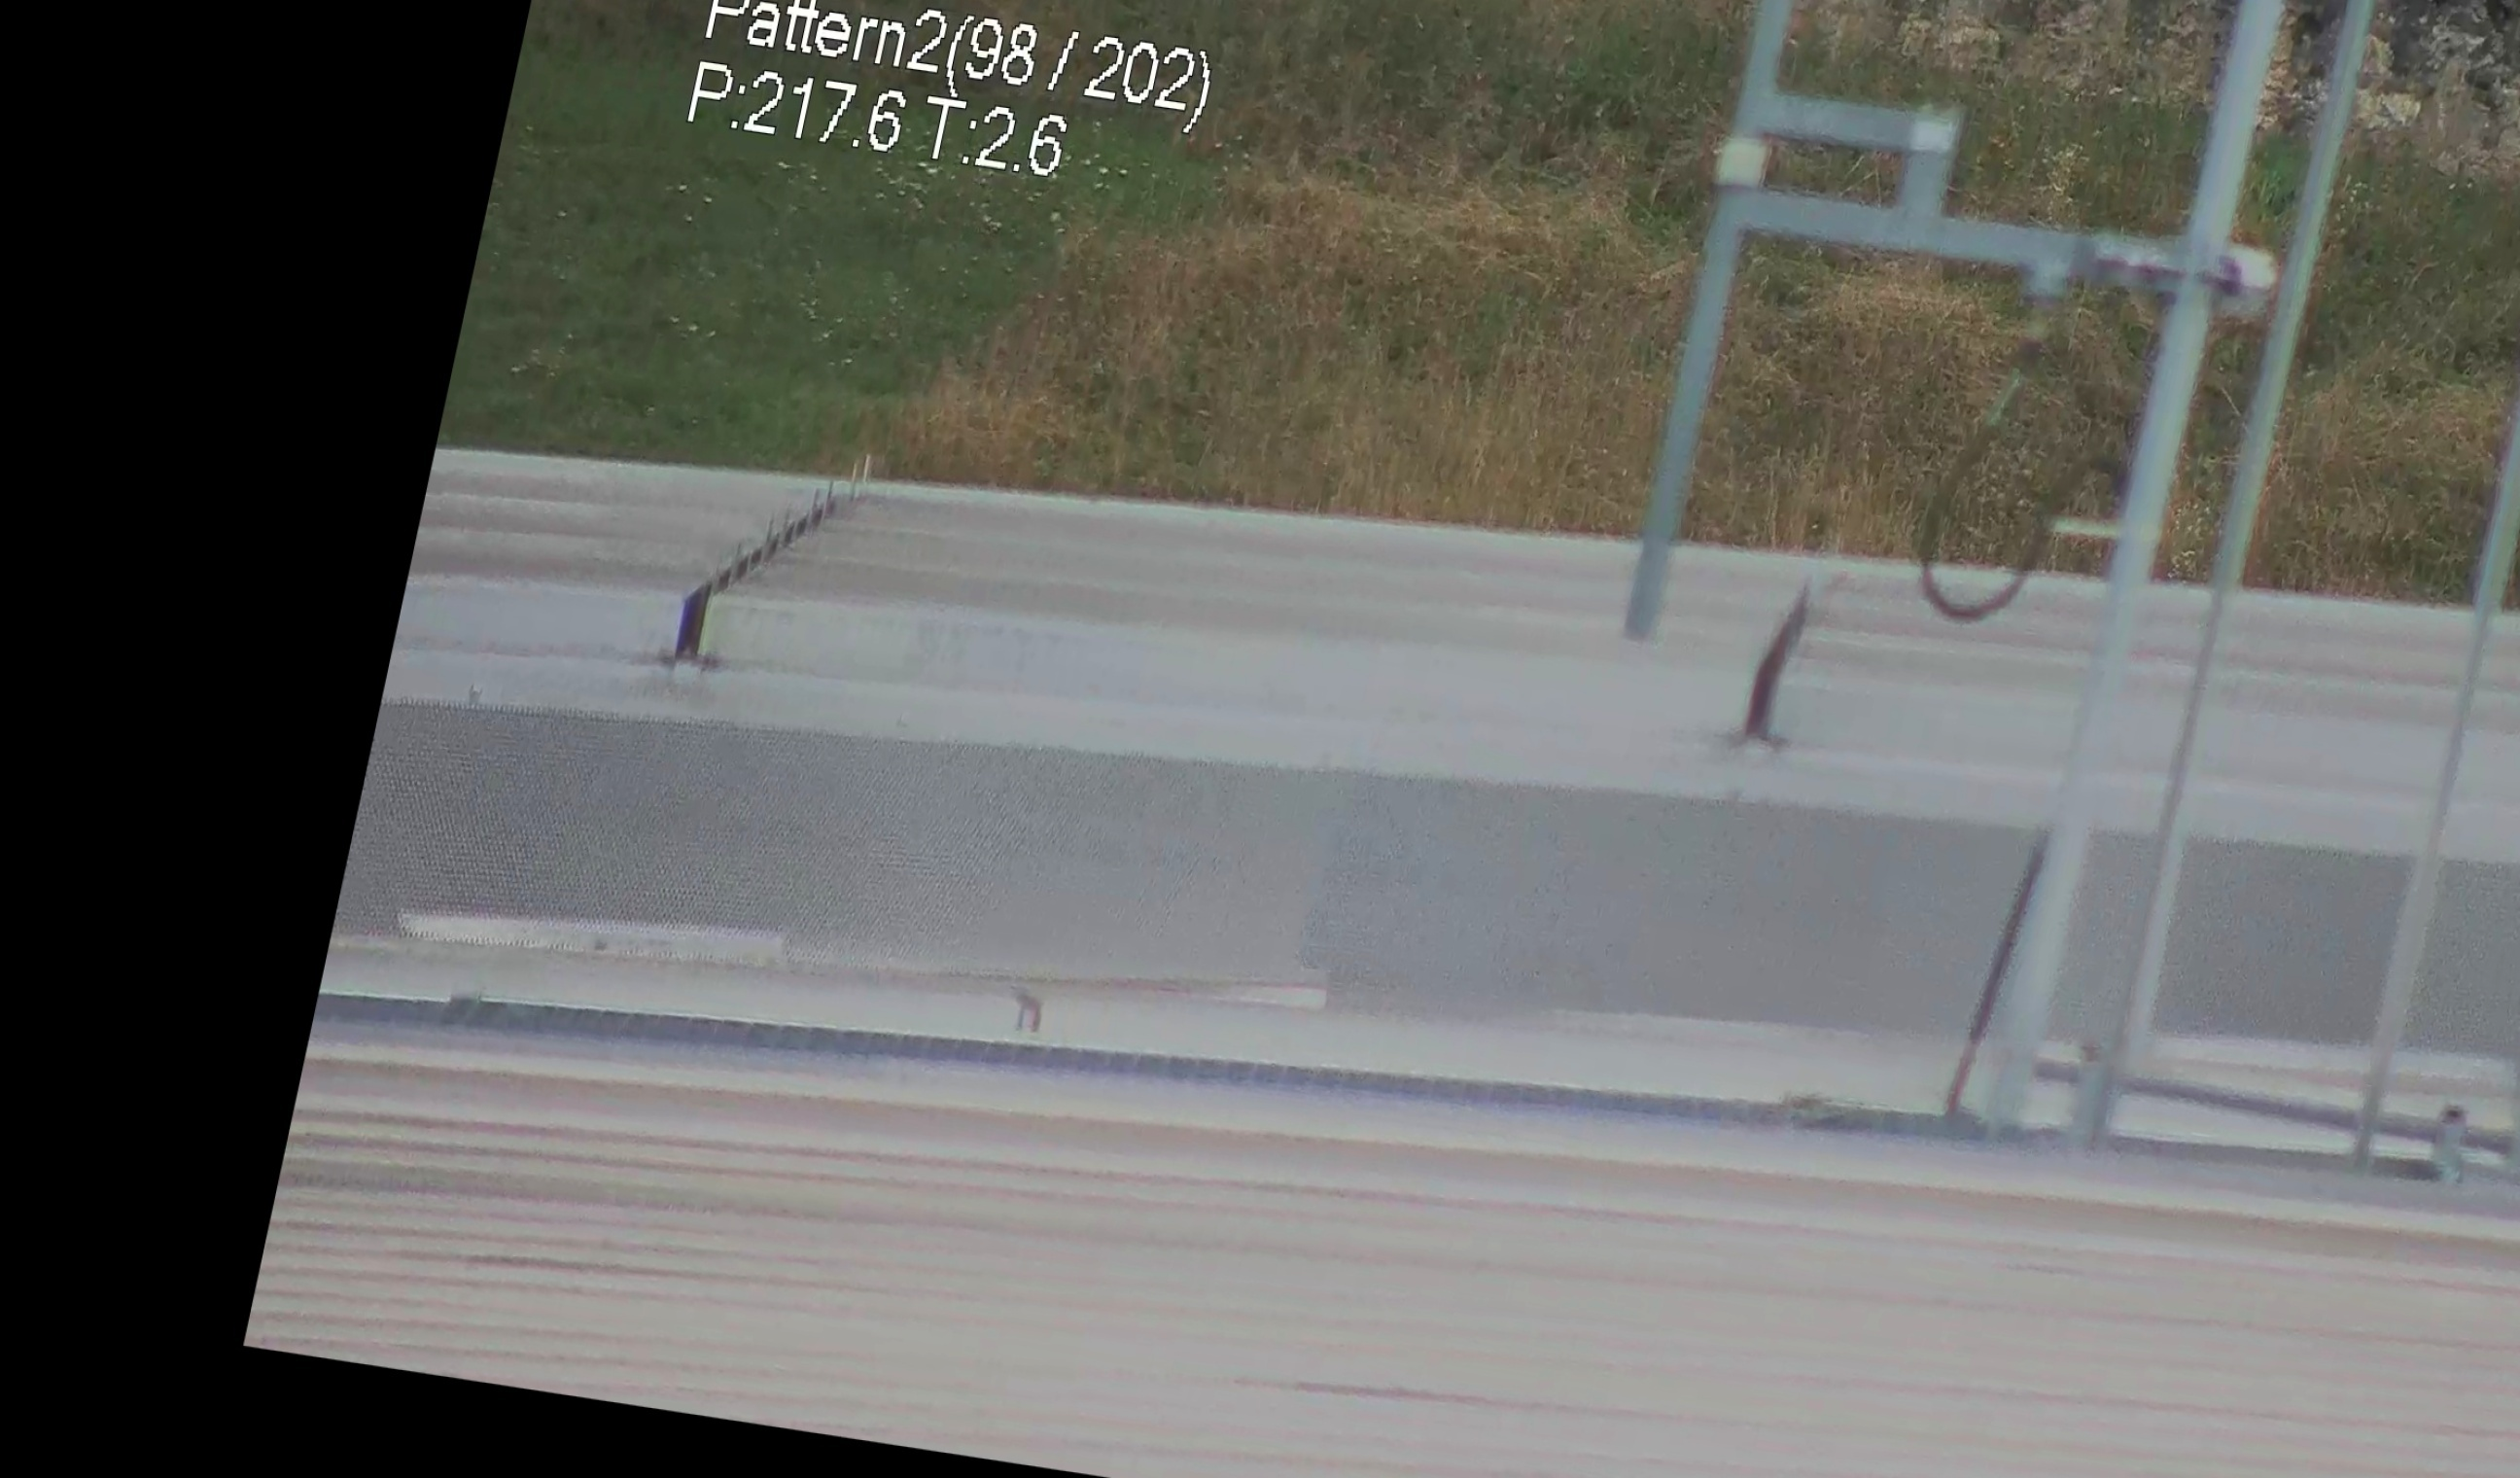Other: (1722, 549, 1839, 753)
